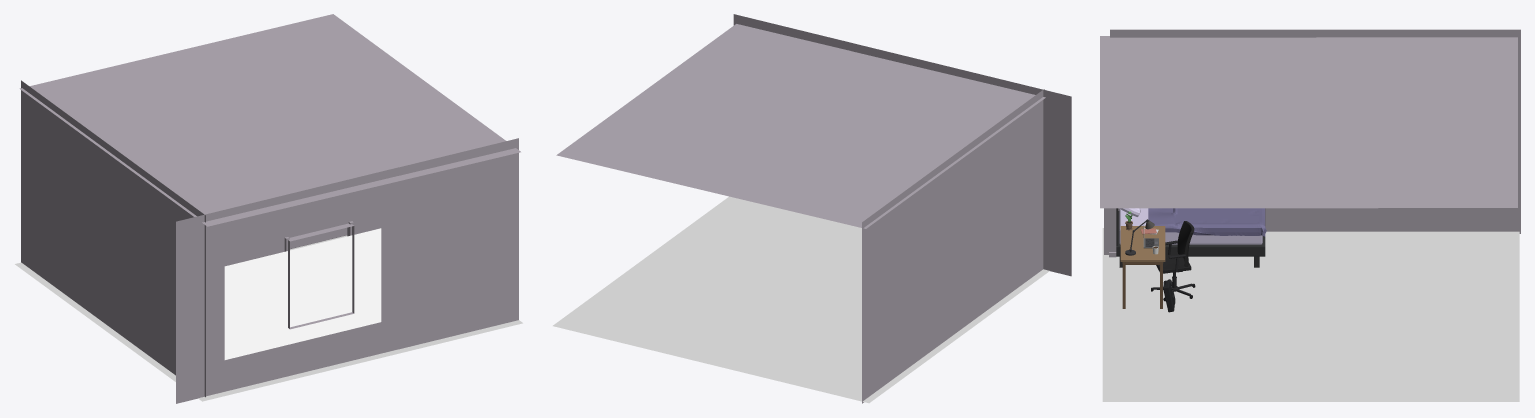
Rendered from room_corner-DuKvl1hB.glb.
3 renders of one model, left to right at view 1: azimuth 30°, elevation 25°; view 2: azimuth 150°, elevation 25°; view 3: azimuth 270°, elevation 25°, orthographic. The views are drawn at different scales.
Visible parts, largest first — view 1: Room, WindowView, WindowFrame; view 2: Room, Carpet; view 3: Room, Bed, Carpet, Table, Chair, WindowFrame.
Part boxes in pixels (x1,y1,x2,y2): Room: (15,14,522,403); WindowView: (224,228,381,359); WindowFrame: (284,221,353,251); Room: (553,14,1071,403); Carpet: (788,259,861,302); Room: (1100,29,1520,401); Bed: (1116,208,1266,267); Carpet: (1210,279,1291,329); Table: (1120,226,1165,308); Chair: (1151,221,1195,301); WindowFrame: (1109,208,1116,257).
Size of the model in its own units: 6.14 by 3.15 by 5.88.
